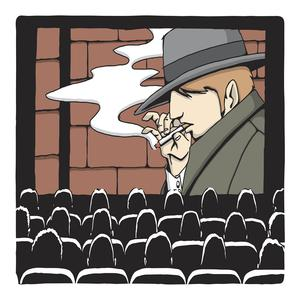cigarette: (153, 123, 192, 150)
